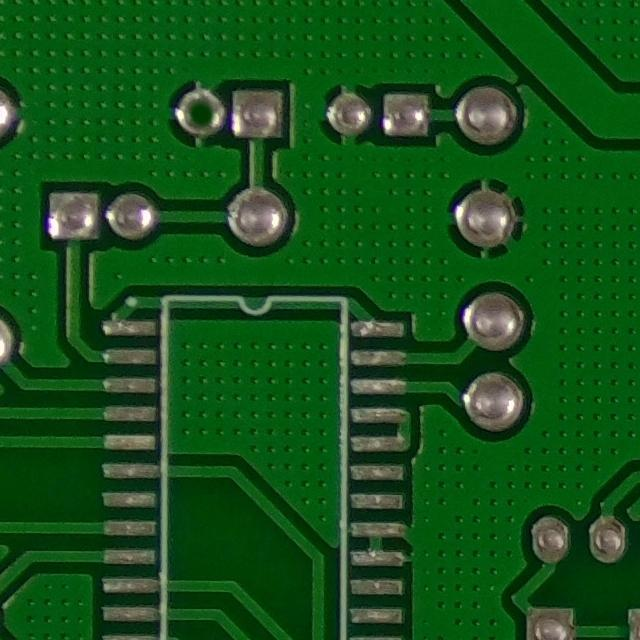missing_hole: (168, 80, 228, 143)
